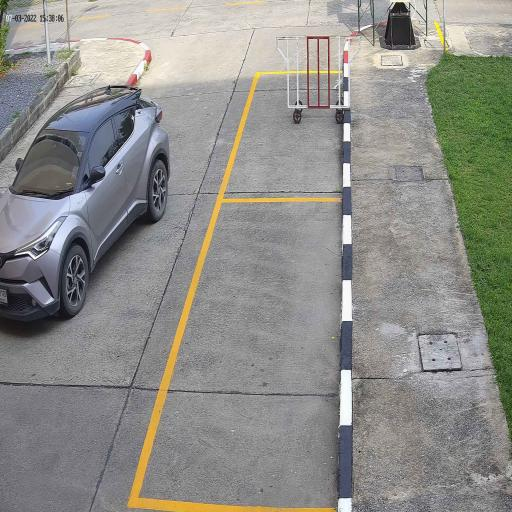car: (0, 84, 170, 323)
